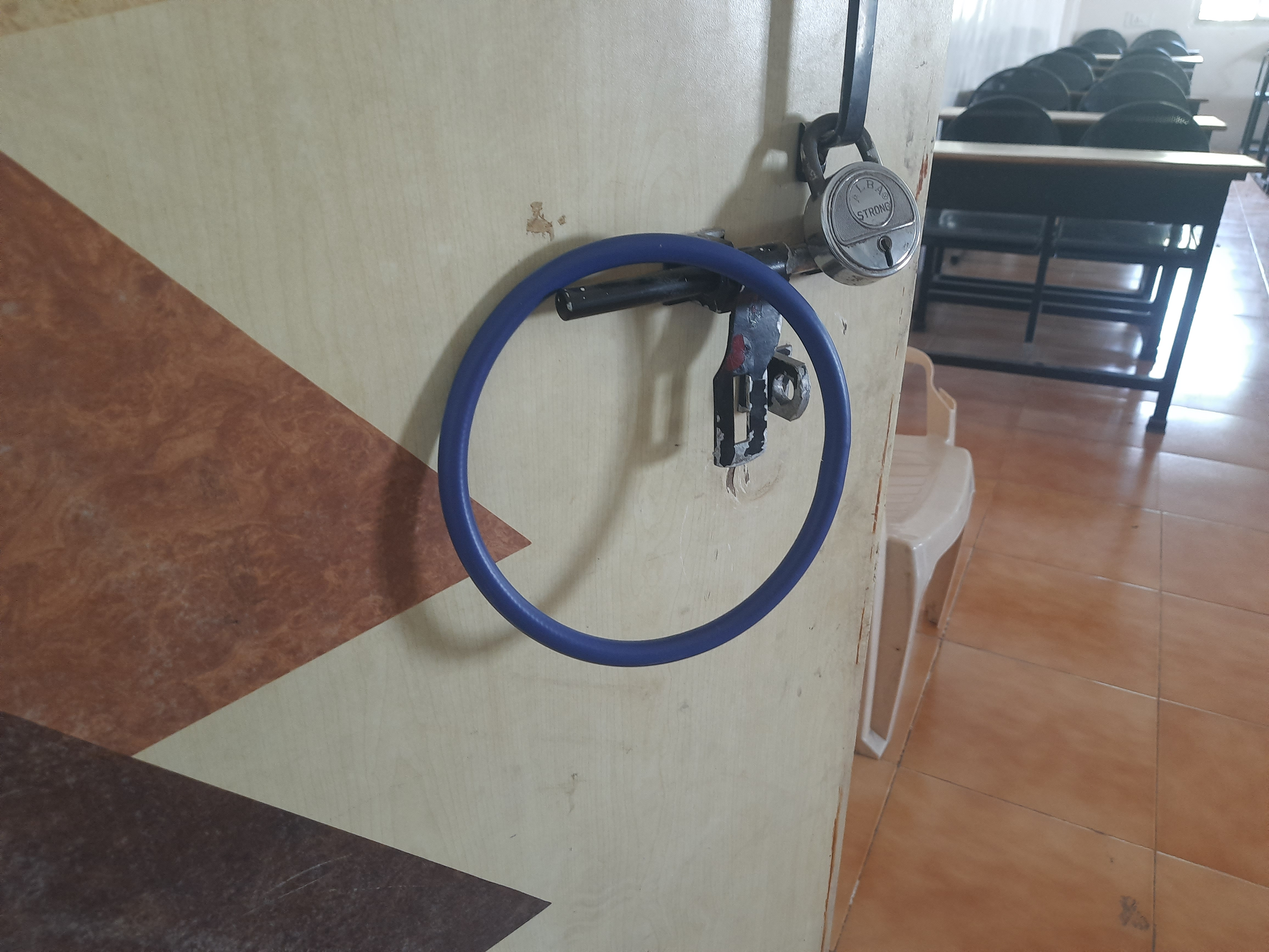Blue ring: (440, 236, 848, 665)
